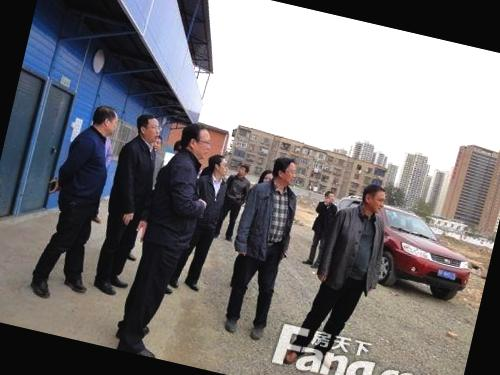no_helmet: (178, 116, 224, 164), (84, 98, 121, 139), (356, 177, 392, 217), (266, 152, 299, 190), (202, 150, 236, 182), (134, 112, 165, 146), (319, 186, 340, 208), (234, 162, 252, 180)
